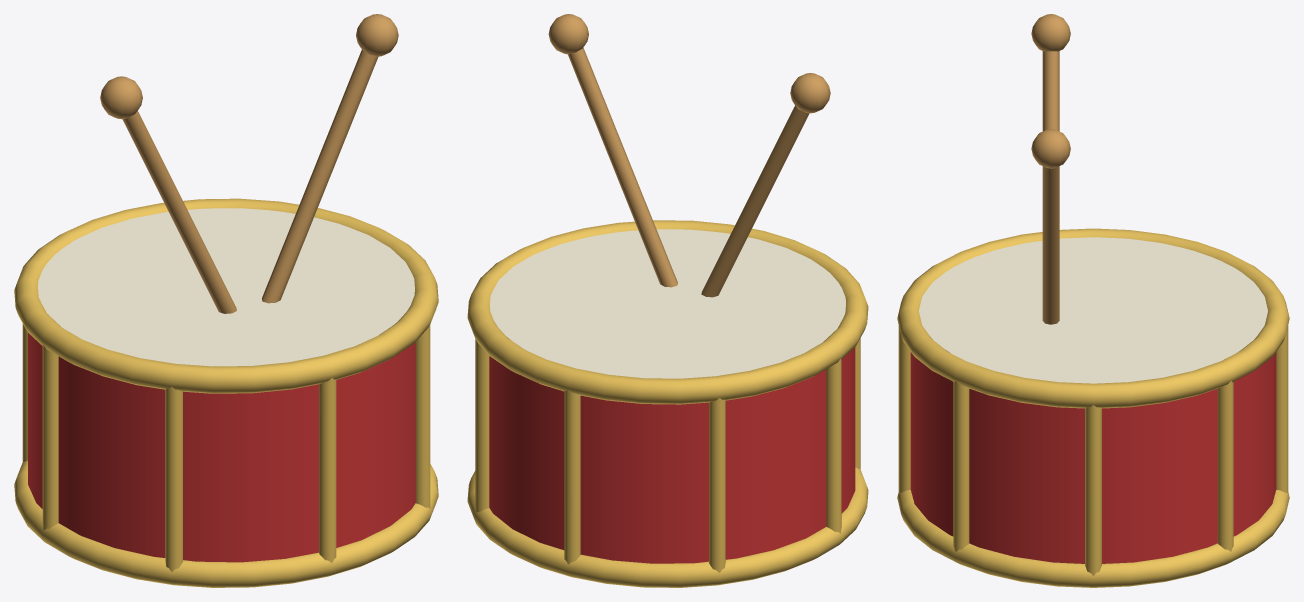
Rendered from drum.glb.
3 views of the same model, side by side, from view 1: azimuth 30°, elevation 25°; view 2: azimuth 150°, elevation 25°; view 3: azimuth 270°, elevation 25° (orthographic). The views are drawn at different scales.
Parts seen in each view (by area): view 1: drum; view 2: drum; view 3: drum.
Boxes of the visible parts, bbox=[...] form: drum: bbox=[14, 14, 438, 587]; drum: bbox=[467, 14, 868, 587]; drum: bbox=[897, 14, 1289, 587].
Size of the model in its own units: 1.39 by 1.7 by 1.39.
